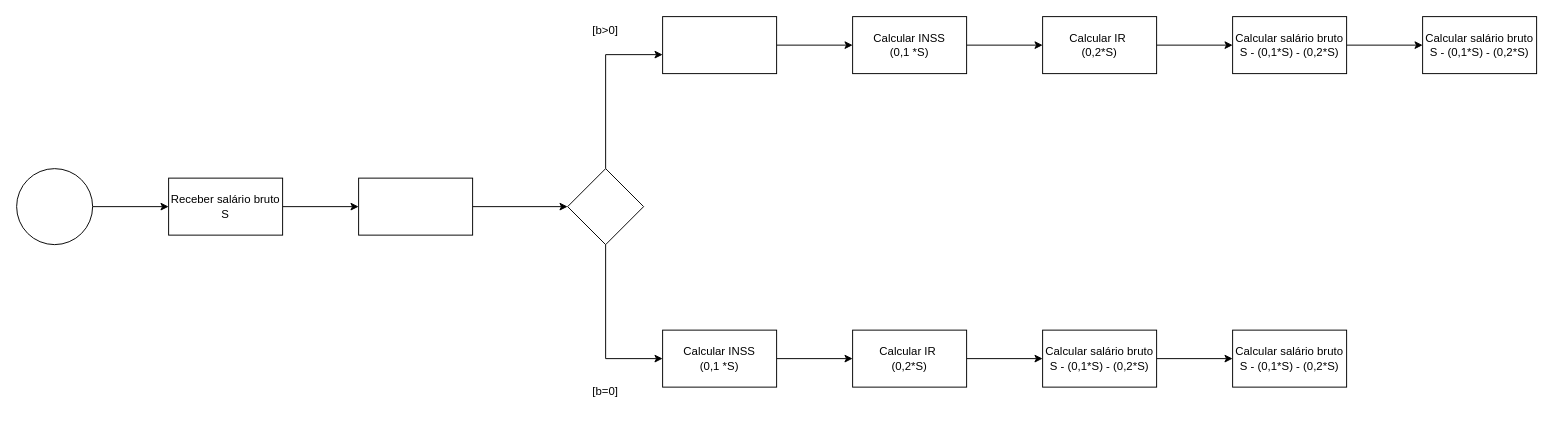
This 1553x423 diagram has some shape labels left out. The box of each missing label's shape, as (x1, y1, x2, y2) in pixels:
Receber benefício b: (358, 177, 473, 235)
Receber nome do benefício e valor do benefício: (662, 16, 777, 74)
